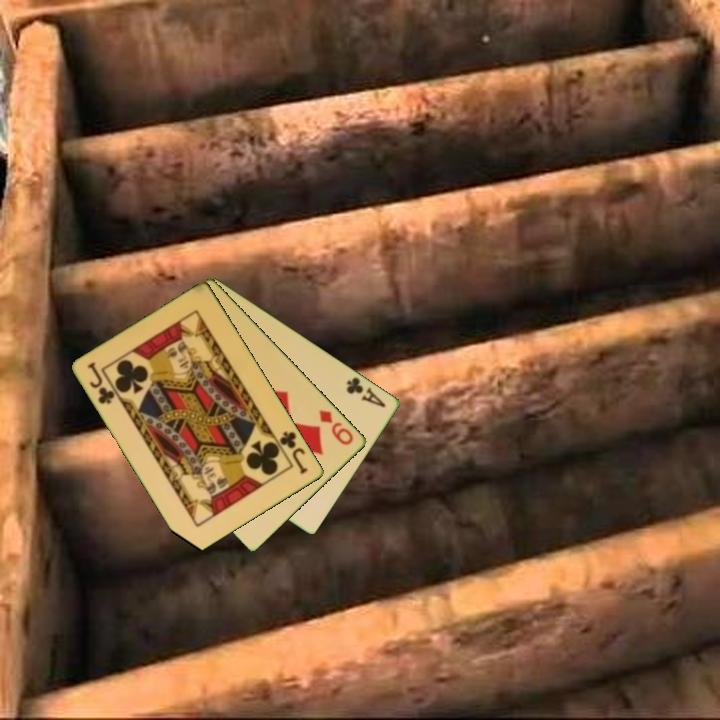9d: (316, 406, 357, 448)
Ac: (343, 373, 389, 410)
Jc: (276, 427, 311, 477), (84, 358, 118, 408)
